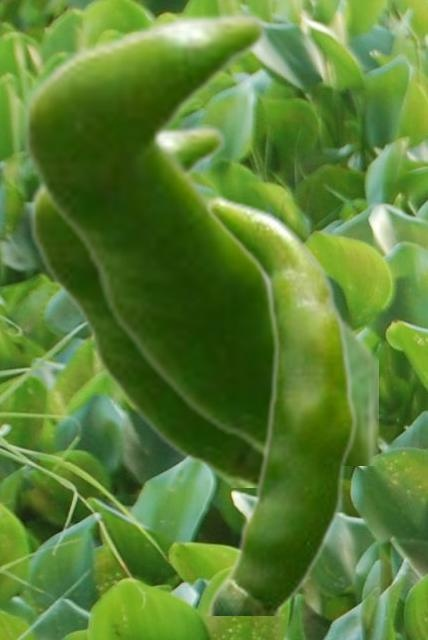green_chili: (20, 10, 377, 464), (28, 124, 260, 486), (204, 194, 358, 614)
